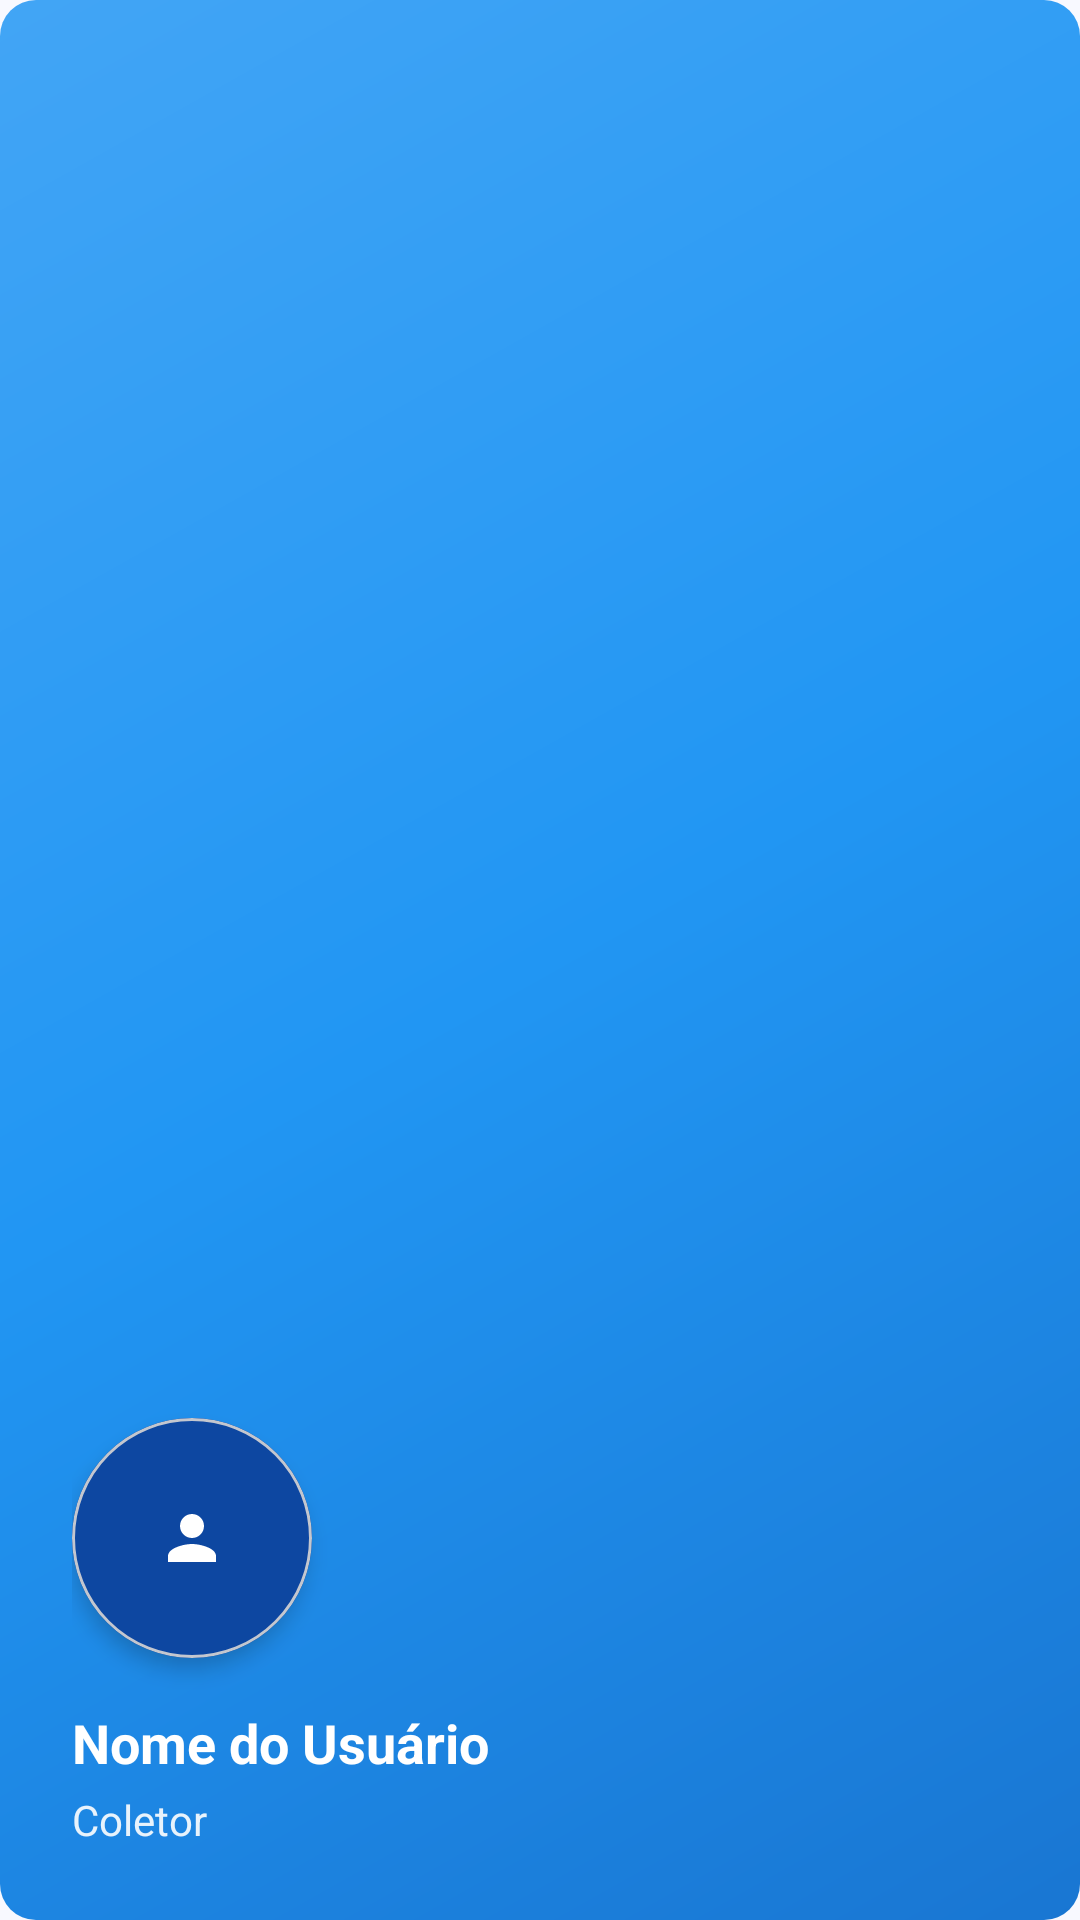

Screen size 1080x1920. Icon name, then its box in pixels as (x1,y1,x2,y2):
Avatar do usuário: (72,1418,312,1658)
